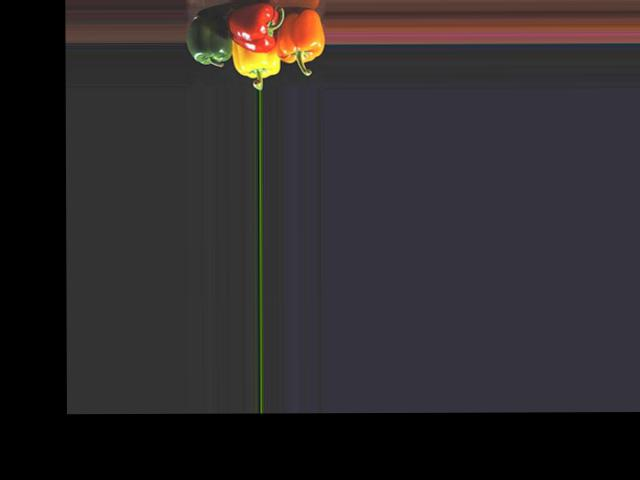bell_pepper: (274, 0, 325, 69)
